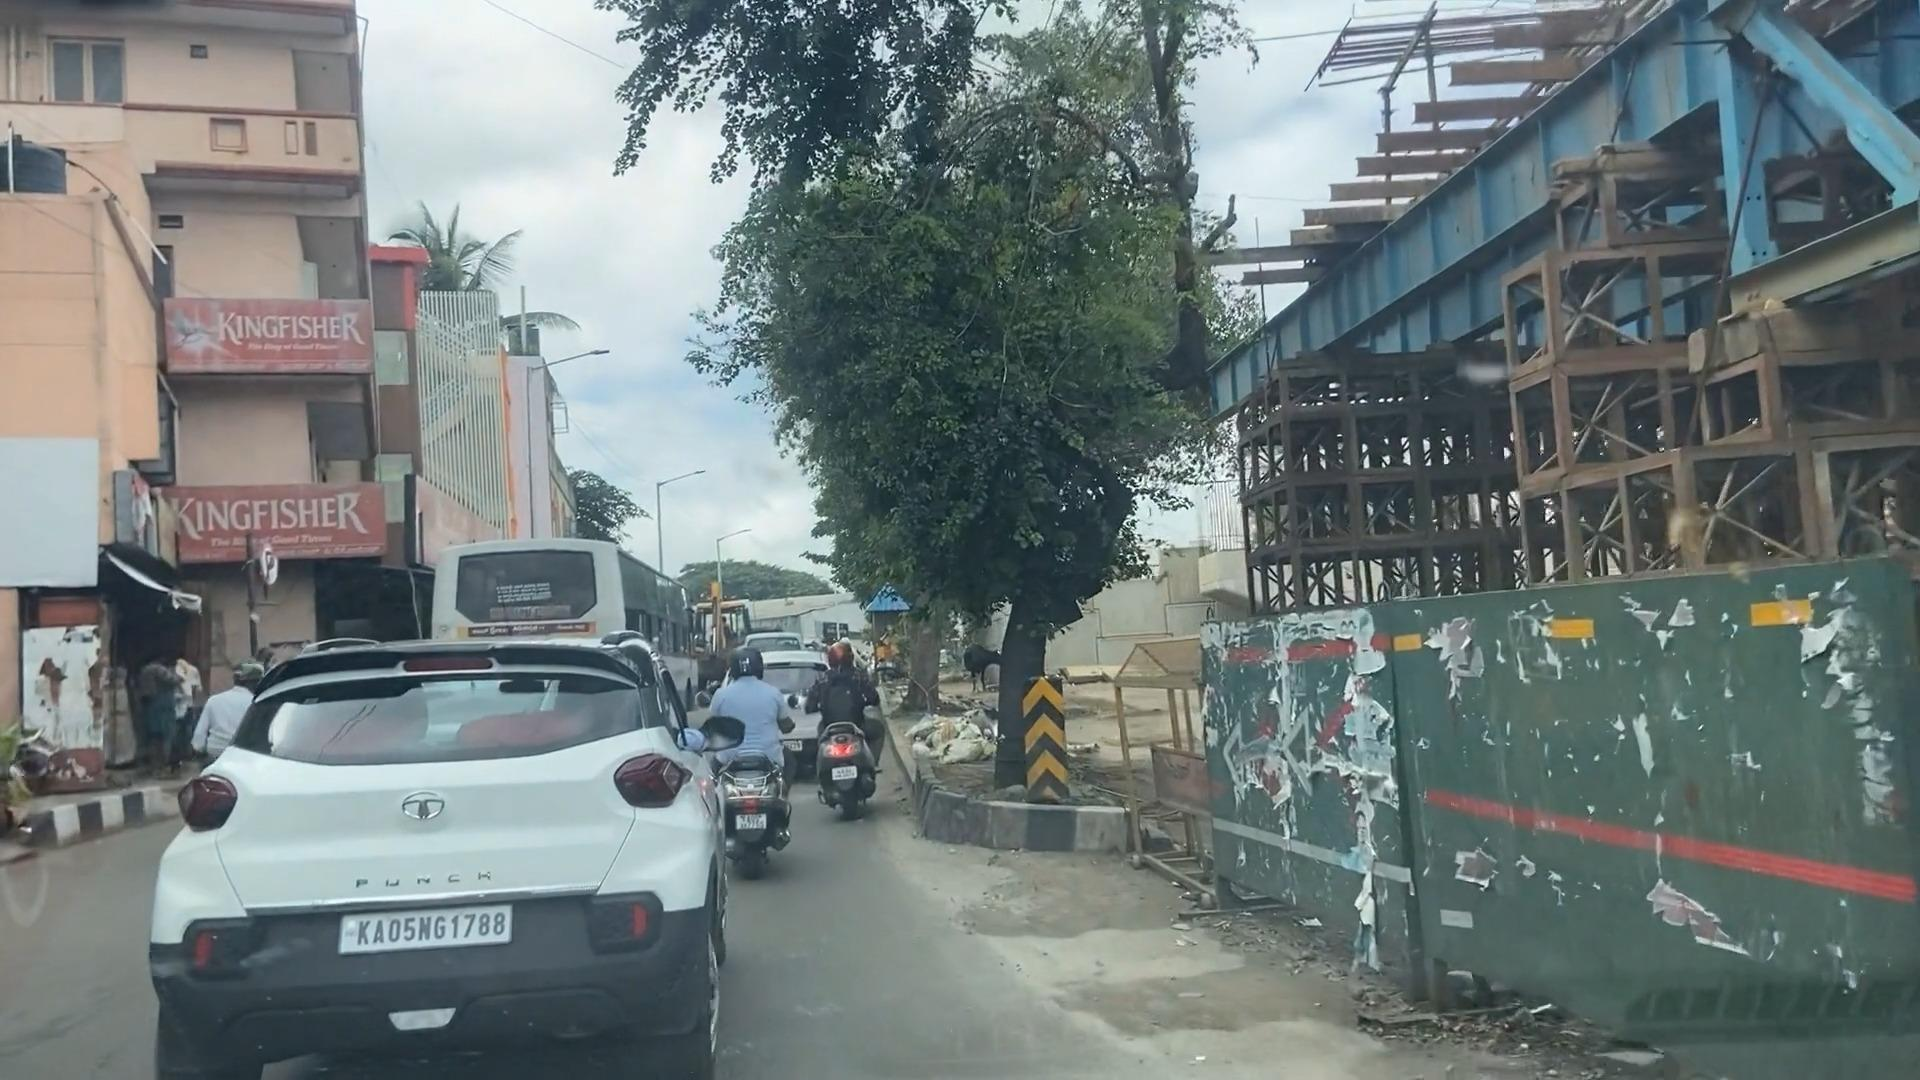LMV: (178, 684, 698, 1059), (720, 644, 781, 851), (816, 638, 873, 823)
